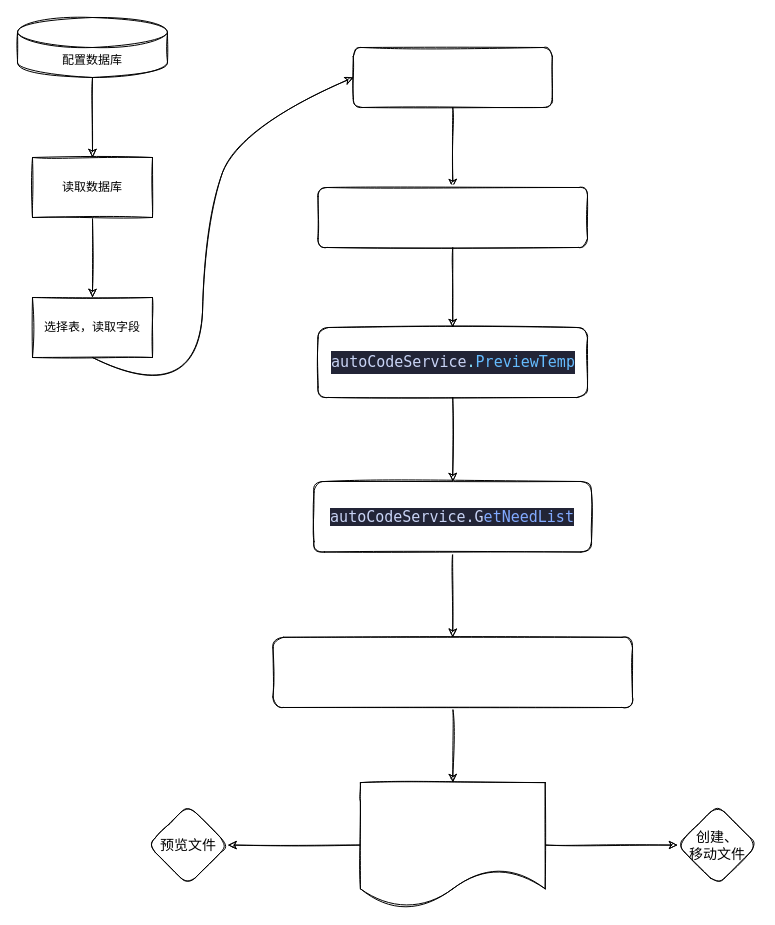
The diagram is 775 pixels wide and 925 high, and some of its shapes have lost their labels. The centre of each missing label's shape, as x and y in pixels:
"api ｜ api mode ｜form request ｜table router ｜ service ｜" goes at pixel 452 845.
"autoCode/ preview" goes at pixel 452 77.
"autoCodeApi. PreviewTemp" goes at pixel 452 217.
"获取 pathName 文件夹下所有 tpl 文件 autoCodeService . GetAllTplFile" goes at pixel 452 672.
